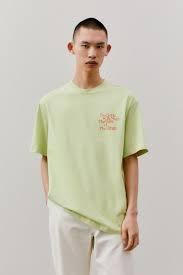Tshirt: (31, 78, 148, 236)
